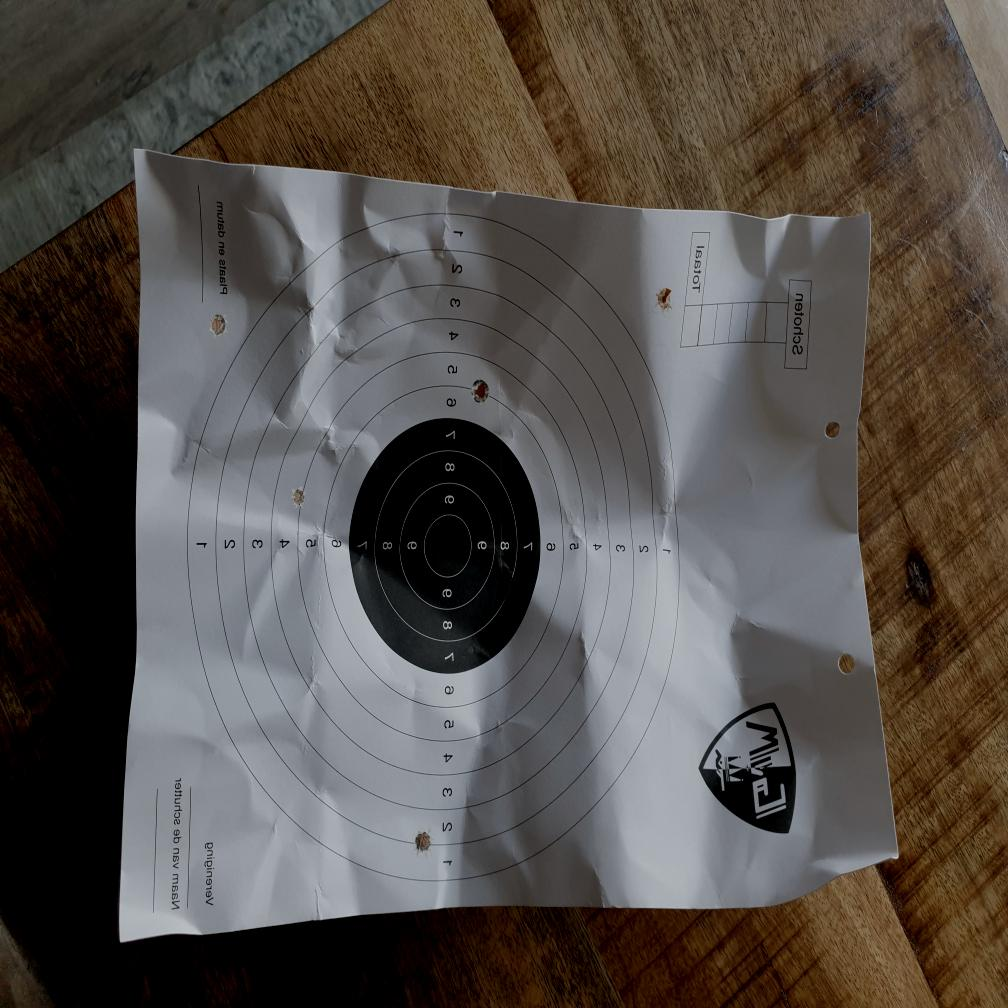0: (209, 313, 227, 338), (654, 287, 672, 312)
2: (414, 827, 433, 854)
5: (292, 485, 306, 510)
6: (470, 379, 490, 404)
Target: (185, 212, 681, 884)
black_contour: (349, 417, 541, 674)
